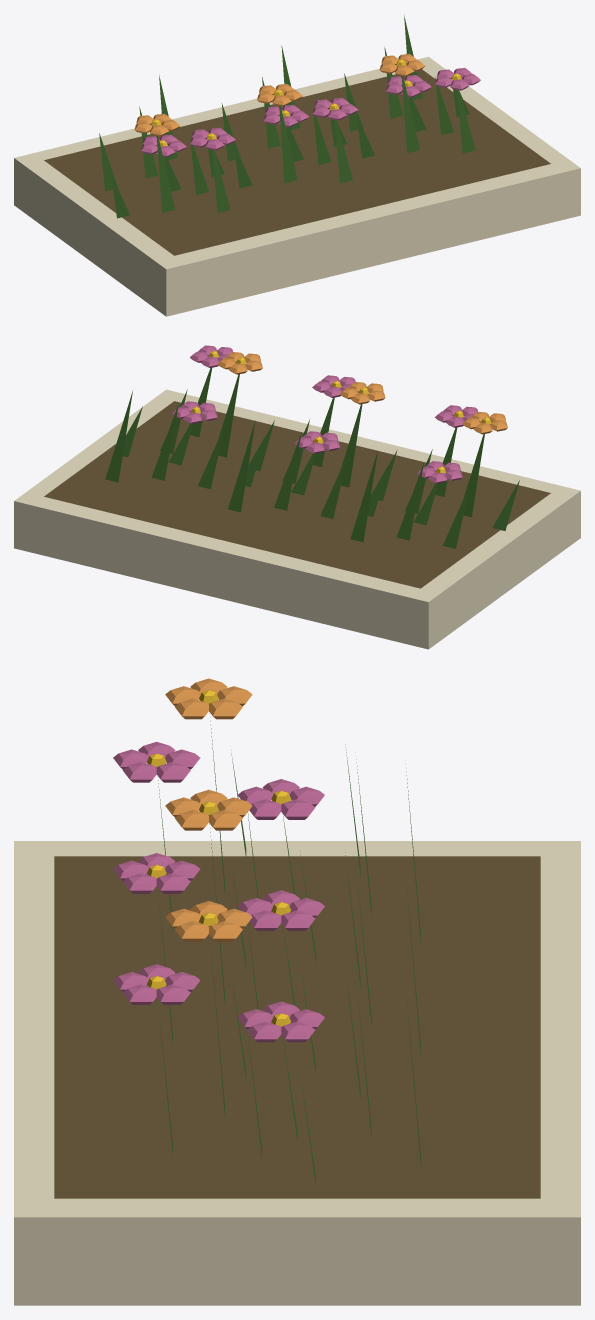
The model's file is FlowerBed.obj.
3 views of the same model, one above another, from view 1: azimuth 30°, elevation 25°; view 2: azimuth 150°, elevation 25°; view 3: azimuth 270°, elevation 25° (orthographic). The views are drawn at different scales.
Parts seen in each view (by area): view 1: FlowerBed; view 2: FlowerBed; view 3: FlowerBed.
Part boxes in pixels (box(x1,y1,x2,y2)): FlowerBed: box(14, 15, 580, 316); FlowerBed: box(14, 345, 580, 649); FlowerBed: box(14, 678, 580, 1305).
Bounding box in the file's own units: 2.2 × 0.7538 × 1.4.
